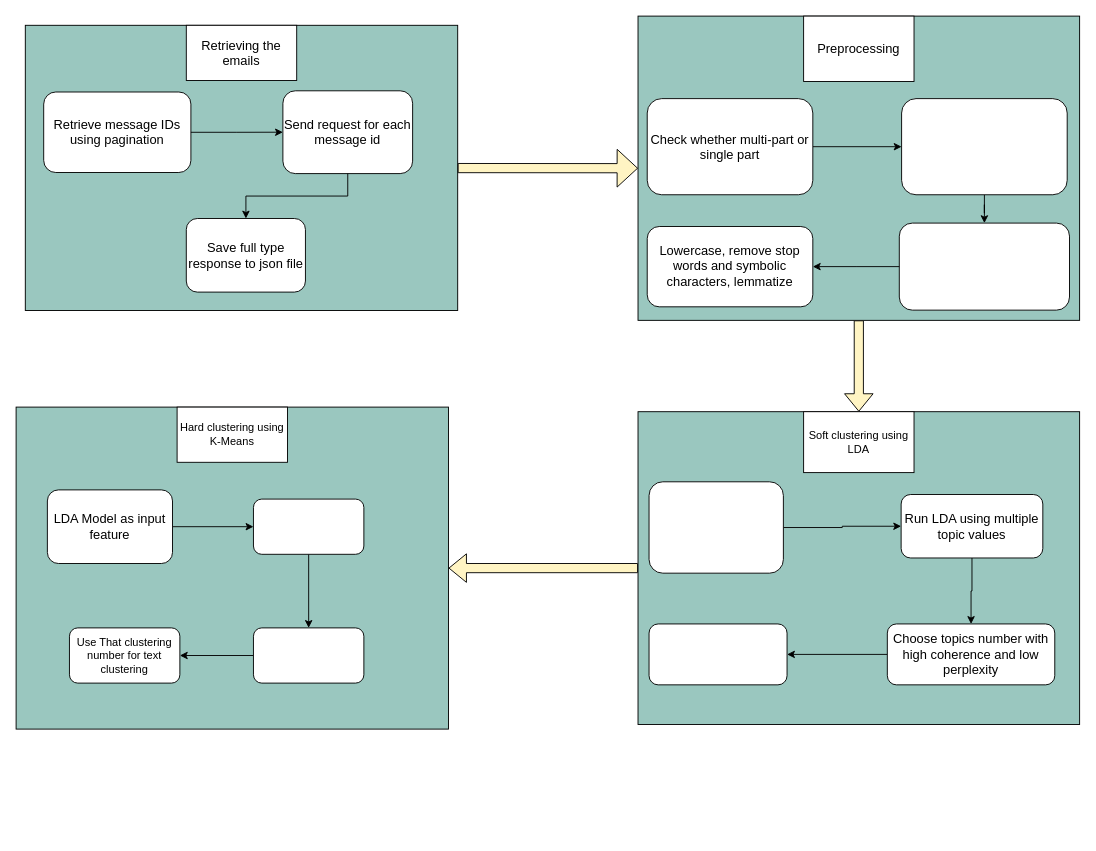
The diagram is 1096 pixels wide and 851 high, and some of its shapes have lost their labels. The shapes that lost their labels are listed below. From the top down, each one's centre as x and y in pixels, then its label:
At (984,146): "Figure out MIME type of each part, extract text elements from html type".
At (984,266): "Append subject, plaintext and filtered text of html to file".
At (308,526): "Run using multiple cluster values".
At (715,527): "Tokenize and convert to BoW".
At (308,655): "Criteria: Silhouette score>0.5 and max silhouette score".
At (717,654): "Use this model for further clustering".
